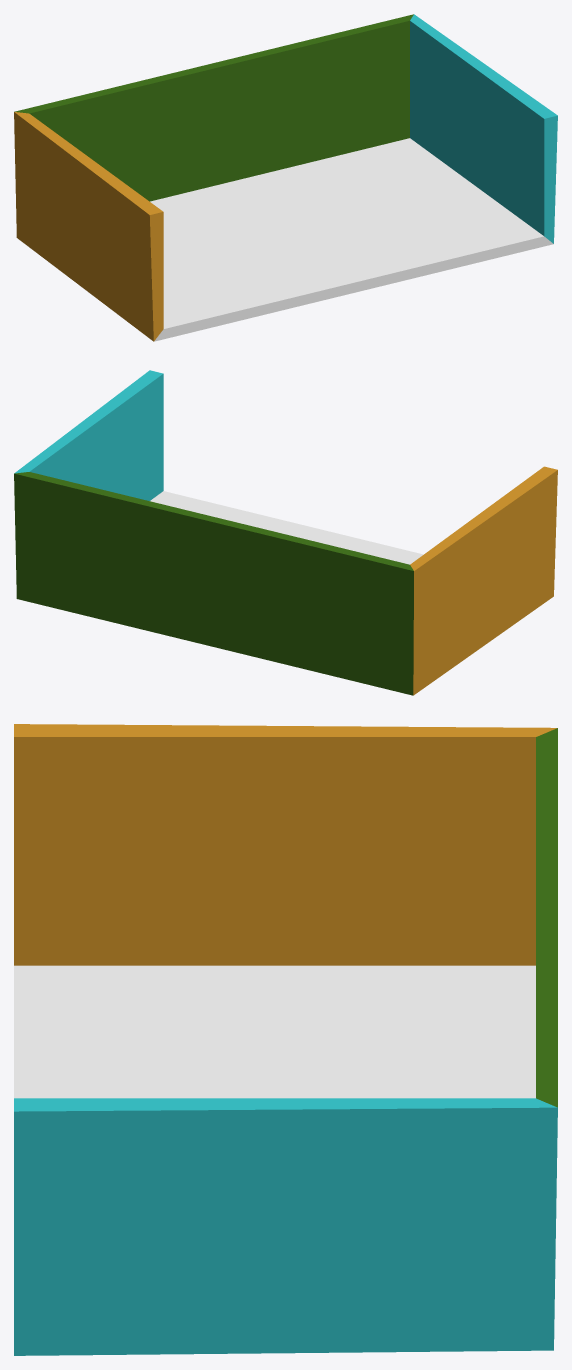
The model's file is BaseOpenSpace.FBX.
The picture shows the model from 3 angles, top to bottom: view 1: azimuth 30°, elevation 25°; view 2: azimuth 150°, elevation 25°; view 3: azimuth 270°, elevation 25°; orthographic projection. The views are drawn at different scales.
Parts seen in each view (by area): view 1: Box001; view 2: Box001; view 3: Box001.
Part boxes in pixels (<box>): Box001: <box>14,14,557,341</box>; Box001: <box>14,370,557,695</box>; Box001: <box>14,724,557,1355</box>.
Bounding box in the file's own units: 360 × 108 × 214.
